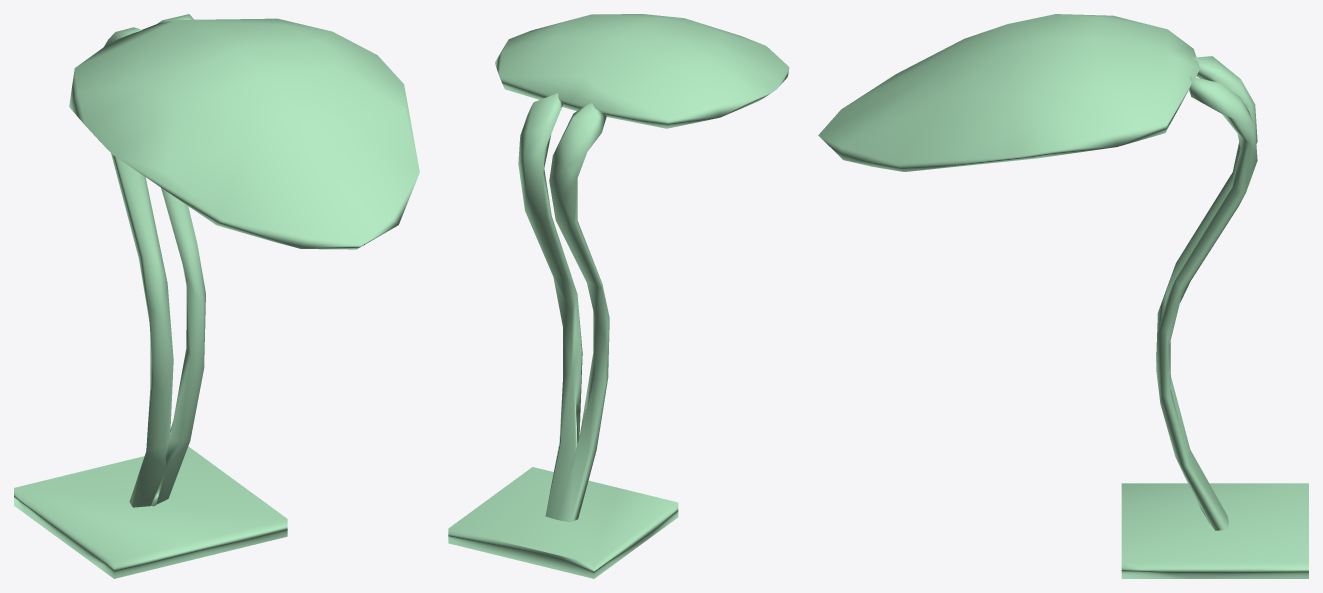
The model's file is Flower Lamp_02.fbx.
3 renders of one model, left to right at view 1: azimuth 30°, elevation 25°; view 2: azimuth 150°, elevation 25°; view 3: azimuth 270°, elevation 25°, orthographic. The views are drawn at different scales.
Visible parts, largest first — view 1: PM3D_Cylinder3D1_1; view 2: PM3D_Cylinder3D1_1; view 3: PM3D_Cylinder3D1_1.
Boxes of the visible parts, x1=… form: PM3D_Cylinder3D1_1: x1=14, y1=14, x2=419, y2=578; PM3D_Cylinder3D1_1: x1=448, y1=14, x2=789, y2=578; PM3D_Cylinder3D1_1: x1=818, y1=14, x2=1308, y2=578.
Bounding box in the file's own units: 1.82 × 3.24 × 2.84.
